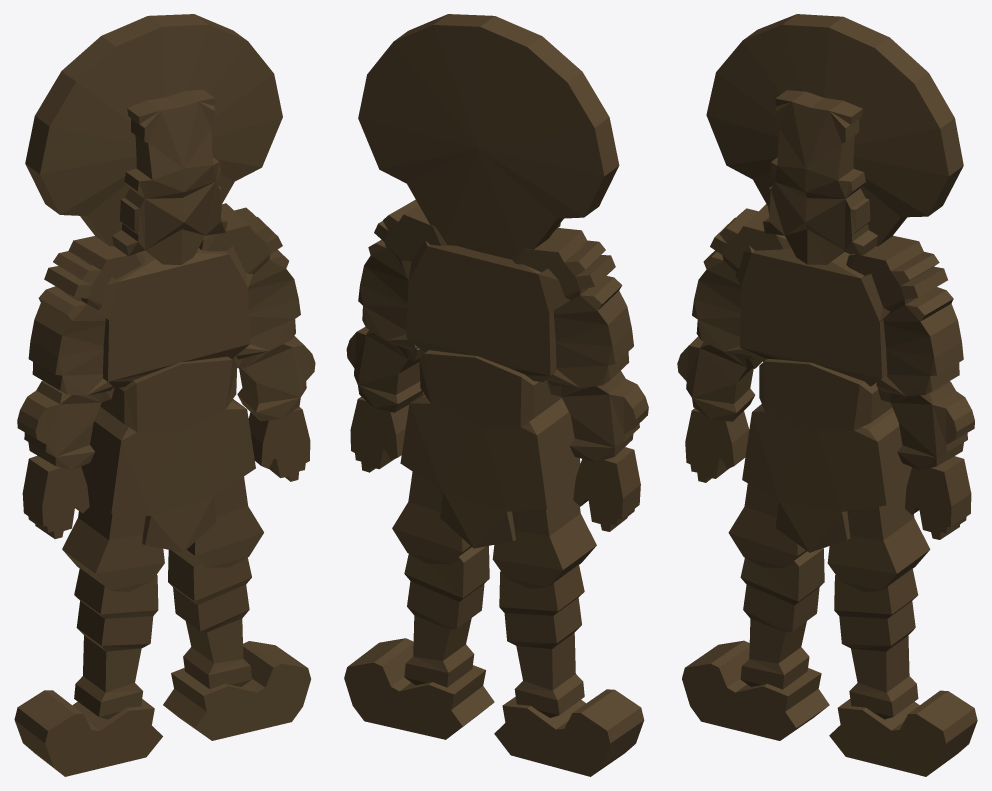
File: STG_BODY.OBJ
3 renders of one model, left to right at view 1: azimuth 30°, elevation 25°; view 2: azimuth 150°, elevation 25°; view 3: azimuth 330°, elevation 25°, orthographic.
Visible parts, largest first — view 1: STG_BODY; view 2: STG_BODY; view 3: STG_BODY.
Part boxes in pixels (left/top/right/bottom): STG_BODY: left=14, top=14, right=315, bottom=776; STG_BODY: left=344, top=14, right=648, bottom=776; STG_BODY: left=677, top=14, right=977, bottom=776.
Size of the model in its own units: 0.9627 by 2.29 by 0.2509.
